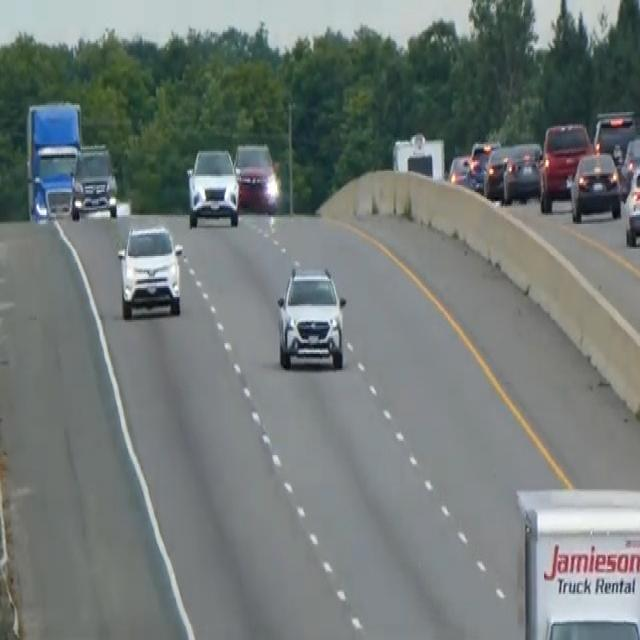car: (116, 222, 183, 318), (538, 119, 594, 212), (185, 144, 239, 228), (568, 150, 621, 222), (70, 142, 118, 220), (233, 139, 279, 213), (592, 108, 638, 164), (501, 140, 542, 202), (465, 137, 499, 192), (483, 142, 510, 199), (624, 162, 639, 247), (619, 135, 639, 196), (447, 151, 471, 187)
jeep: (274, 258, 348, 373)
lorry: (24, 98, 83, 220)
